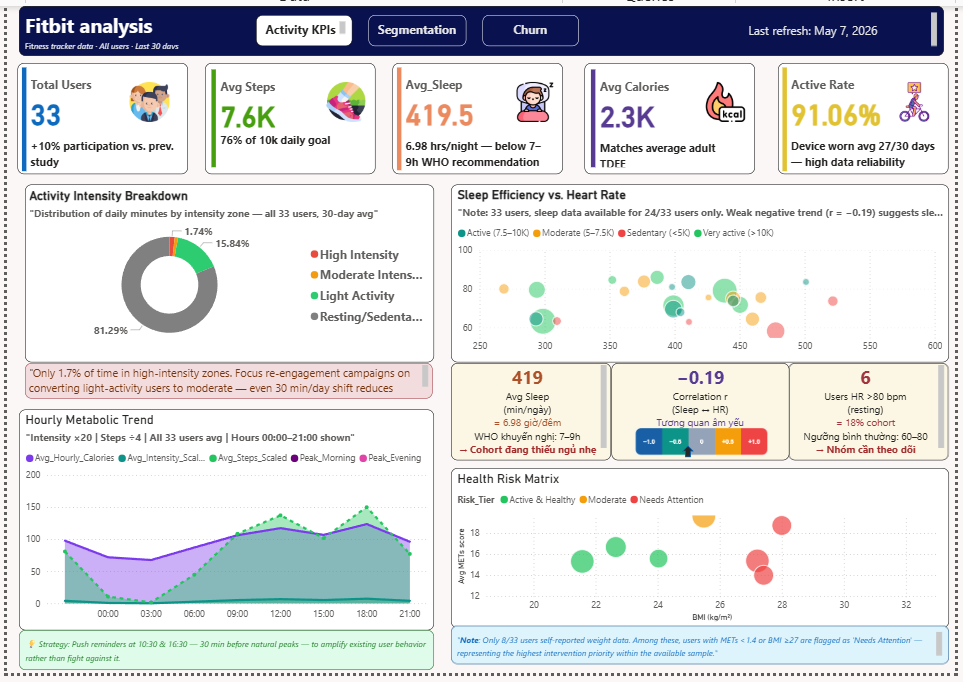

Layout of this report page (visuals, bound fields, positions):
{"tool":"powerbi","page":{"name":"Page 1 : Activity KPIs","canvas":[1280,900],"ordinal":0},"visuals":[{"type":"textbox","box":[16,0,1248,67],"z":0,"group":"g2"},{"type":"group","id":"g1","title":"Group 1","box":[14,76,1256,150],"z":0},{"type":"cardVisual","fields":{"Data":["master_dataset.Total Users"]},"box":[14,76,230,150],"z":0,"group":"g1"},{"type":"donutChart","title":"Activity Intensity Breakdown","fields":{"Y":["Sum(master_dataset.VeryActiveMinutes)","Sum(master_dataset.FairlyActiveMinutes)","Sum(master_dataset.LightlyActiveMinutes)","Sum(master_dataset.SedentaryMinutes)"]},"box":[24,240,552,240],"z":0,"group":"g4"},{"type":"scatterChart","title":"Sleep Efficiency vs. Heart Rate","fields":{"X":["Avg(master_dataset.TotalMinutesAsleep)"],"Y":["Avg(master_dataset.HeartRate_mean)"],"Category":["master_dataset.Id"],"Series":["master_dataset.Activity_Level_Color_cl"],"Size":["master_dataset.Active_Days_Measure"]},"box":[600,240,672,240],"z":0,"group":"g5"},{"type":"group","id":"g2","title":"Group 4","box":[16,0,1248,67],"z":23,"group":"g3"},{"type":"group","id":"g3","title":"Group 2","box":[16,0,1248,67],"z":1000},{"type":"textbox","box":[336,13,130,42],"z":1000,"group":"g2"},{"type":"cardVisual","fields":{"Data":["master_dataset.Avg Steps"]},"box":[266,76,230,150],"z":1000,"group":"g1"},{"type":"textbox","box":[24,480,550,48],"z":1000,"group":"g4"},{"type":"textbox","box":[600,480,216,131],"z":1000,"group":"g5"},{"type":"textbox","box":[488,13,132,42],"z":2000,"group":"g2"},{"type":"cardVisual","fields":{"Data":["master_dataset.Avg Sleep"]},"box":[520,76,230,150],"z":2000,"group":"g1"},{"type":"group","id":"g4","title":"Group 3","box":[24,240,552,288],"z":2000},{"type":"textbox","box":[1056,480,216,131],"z":2000,"group":"g5"},{"type":"areaChart","title":"Hourly Metabolic Trend","fields":{"Y":["hourlycombine.Avg_Hourly_Calories","hourlycombine.Avg_Intensity_Scaled","hourlycombine.Avg_Steps_Scaled","hourlycombine.Peak_Morning","hourlycombine.Peak_Evening"],"Category":["hourlycombine.Hour_Label"]},"box":[16,544,560,298],"z":2000,"group":"g6"},{"type":"textbox","box":[642,13,130,42],"z":3000,"group":"g2"},{"type":"cardVisual","fields":{"Data":["master_dataset.Avg Calories"]},"box":[780,76,230,150],"z":3000,"group":"g1"},{"type":"group","id":"g5","title":"Group 5","box":[600,240,672,371],"z":3000},{"type":"textbox","box":[816,480,240,131],"z":3000,"group":"g5"},{"type":"scatterChart","title":"Health Risk Matrix","fields":{"Category":["user_risk.Id"],"X":["Avg(user_risk.Avg_BMI)"],"Y":["Avg(user_risk.Avg_METs)"],"Series":["user_risk.Risk_Tier"],"Size":["Sum(user_risk.Avg_Sedentary)"]},"box":[600,624,672,216],"z":3000,"group":"g7"},{"type":"textbox","box":[960,16,256,32],"z":4000,"group":"g2"},{"type":"cardVisual","fields":{"Data":["master_dataset.Active Rate"]},"box":[1040,76,230,150],"z":4000,"group":"g1"},{"type":"group","id":"g6","title":"Group 6","box":[16,544,560,352],"z":4000},{"type":"image","box":[840,566,192,41],"z":4000,"group":"g5"},{"type":"image","box":[160,96,64,64],"z":5000,"group":"g1"},{"type":"shape","box":[912,592,16,16],"z":5000,"group":"g5"},{"type":"group","id":"g7","title":"Group 7","box":[600,624,672,264],"z":5000},{"type":"image","box":[416,96,80,64],"z":6000,"group":"g1"},{"type":"textbox","box":[16,842,560,54],"z":6000,"group":"g6"},{"type":"textbox","box":[600,836,672,52],"z":6002,"group":"g7"},{"type":"image","box":[672,96,80,64],"z":7000,"group":"g1"},{"type":"image","box":[928,96,80,64],"z":8000,"group":"g1"},{"type":"image","box":[1184,96,80,64],"z":9000,"group":"g1"}]}

Visuals, with their boxes in screenshot pixels (x1, y1, x2, y2), scaled from the page's 1280x900 canvas onto the 963x682 screenshot:
textbox: select_region(12, 0, 951, 51)
"Group 1" group: select_region(11, 58, 955, 171)
cardVisual - master_dataset.Total Users: select_region(11, 58, 184, 171)
"Activity Intensity Breakdown" donutChart: select_region(18, 182, 433, 364)
"Sleep Efficiency vs. Heart Rate" scatterChart: select_region(451, 182, 957, 364)
"Group 4" group: select_region(12, 0, 951, 51)
"Group 2" group: select_region(12, 0, 951, 51)
textbox: select_region(253, 10, 351, 42)
cardVisual - master_dataset.Avg Steps: select_region(200, 58, 373, 171)
textbox: select_region(18, 364, 432, 400)
textbox: select_region(451, 364, 614, 463)
textbox: select_region(367, 10, 466, 42)
cardVisual - master_dataset.Avg Sleep: select_region(391, 58, 564, 171)
"Group 3" group: select_region(18, 182, 433, 400)
textbox: select_region(794, 364, 957, 463)
"Hourly Metabolic Trend" areaChart: select_region(12, 412, 433, 638)
textbox: select_region(483, 10, 581, 42)
cardVisual - master_dataset.Avg Calories: select_region(587, 58, 760, 171)
"Group 5" group: select_region(451, 182, 957, 463)
textbox: select_region(614, 364, 794, 463)
"Health Risk Matrix" scatterChart: select_region(451, 473, 957, 637)
textbox: select_region(722, 12, 915, 36)
cardVisual - master_dataset.Active Rate: select_region(782, 58, 955, 171)
"Group 6" group: select_region(12, 412, 433, 679)
image: select_region(632, 429, 776, 460)
image: select_region(120, 73, 169, 121)
shape: select_region(686, 449, 698, 461)
"Group 7" group: select_region(451, 473, 957, 673)
image: select_region(313, 73, 373, 121)
textbox: select_region(12, 638, 433, 679)
textbox: select_region(451, 634, 957, 673)
image: select_region(506, 73, 566, 121)
image: select_region(698, 73, 758, 121)
image: select_region(891, 73, 951, 121)
